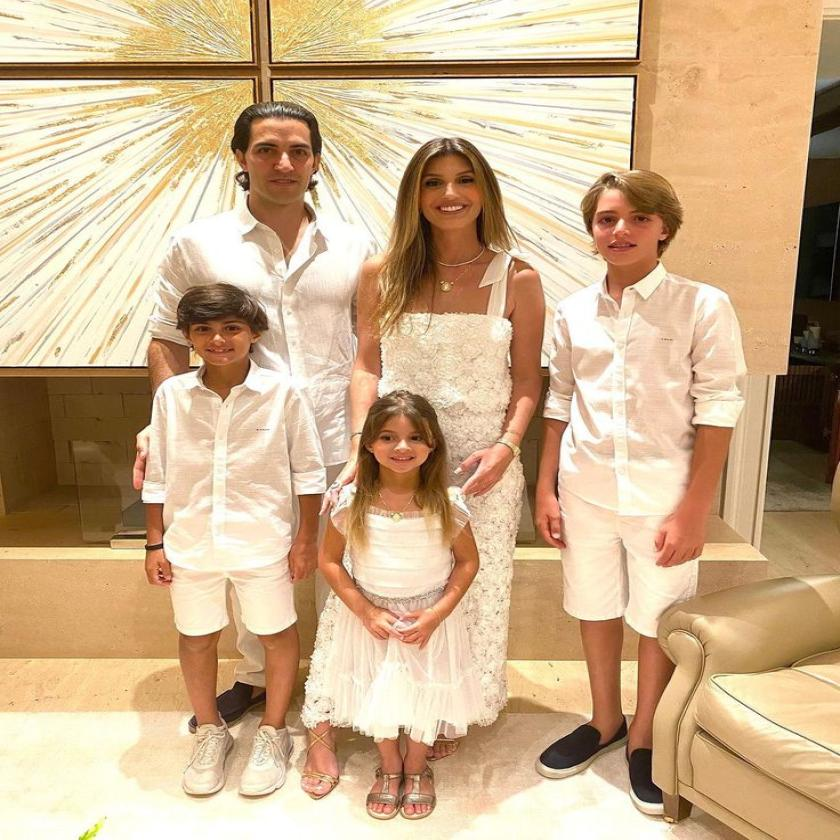Sin_casco: (401, 134, 504, 256), (228, 99, 324, 222), (580, 167, 682, 275), (173, 278, 267, 381), (364, 390, 446, 498)
